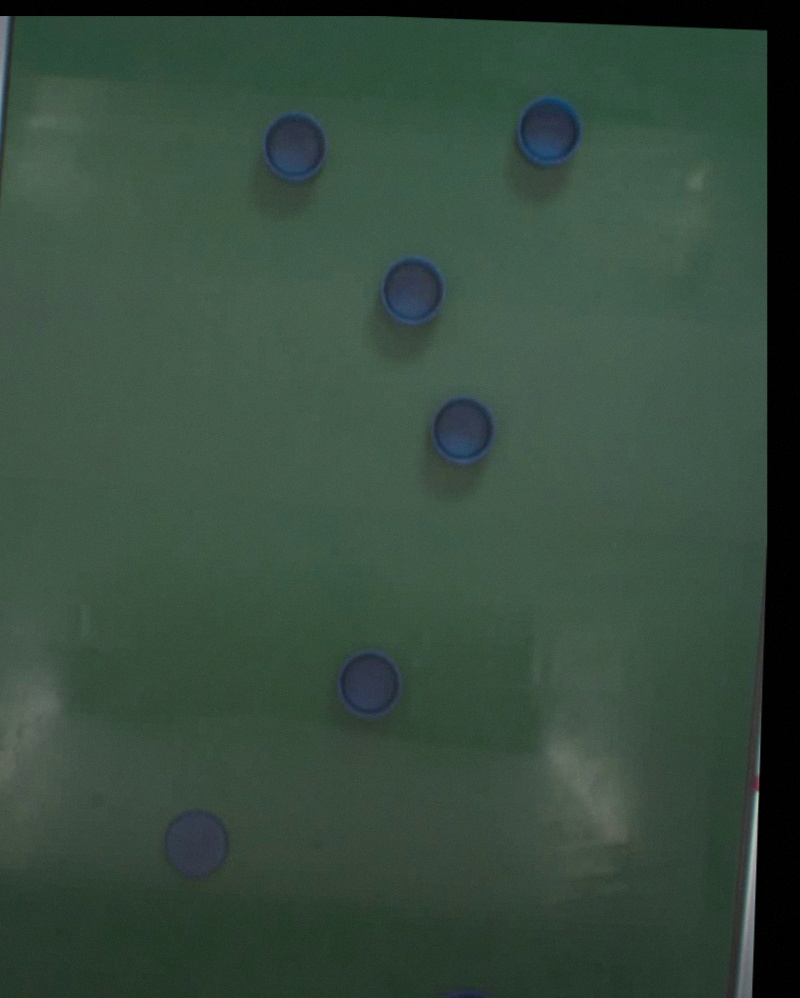Dark Blue: (516, 93, 584, 168), (262, 109, 328, 184), (431, 396, 496, 468), (337, 649, 402, 721), (165, 809, 230, 880), (378, 259, 444, 325)
